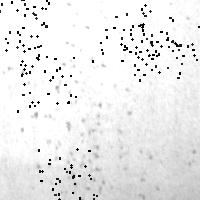pitted_surface: (51, 7, 136, 198), (2, 66, 57, 171), (132, 1, 196, 54), (142, 10, 200, 67), (92, 4, 151, 60), (17, 54, 75, 110), (138, 146, 197, 199), (38, 148, 97, 200), (129, 24, 181, 79), (0, 0, 48, 50)
